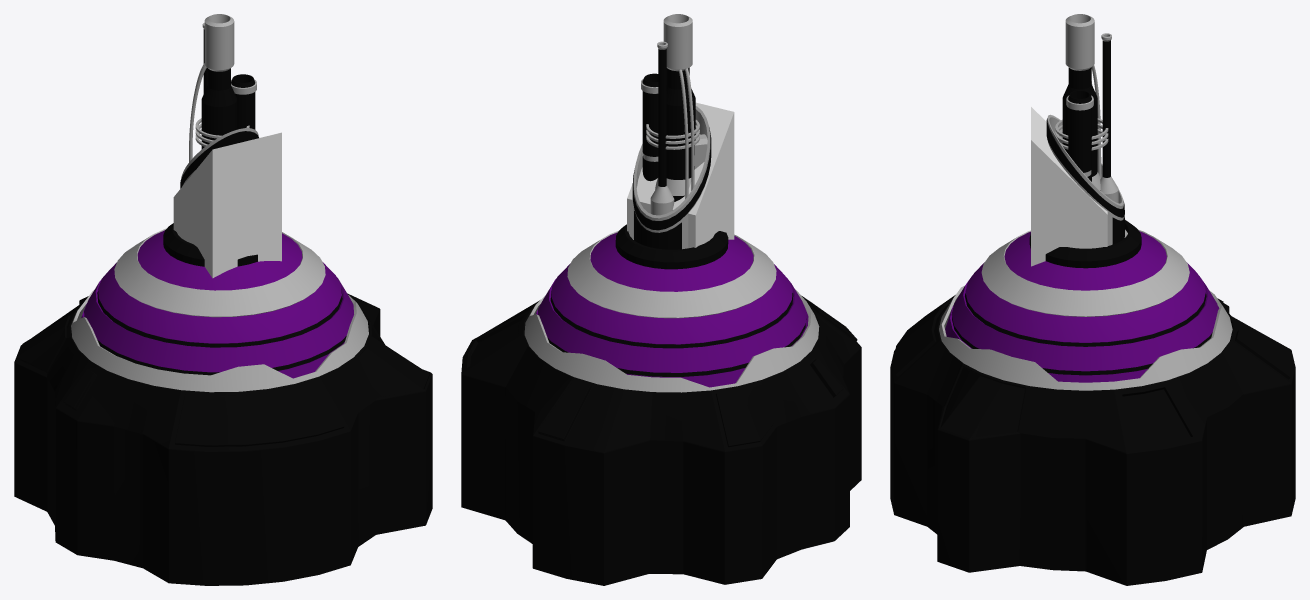
File: Geo Turret.fbx
3 views of the same model, side by side, from view 1: azimuth 30°, elevation 25°; view 2: azimuth 150°, elevation 25°; view 3: azimuth 270°, elevation 25° (orthographic).
Visible parts, largest first — view 1: Circle.001, Sphere, Cutter, Sphere.002, Circle, Sphere.001, Cylinder, Cylinder.002; view 2: Circle.001, Sphere, Sphere.002, Circle, Cutter, Sphere.001, Cylinder.002, Cylinder.001, Cylinder, Circle.002, cable; view 3: Circle.001, Sphere, Sphere.002, Cutter, Circle, Sphere.001, Cylinder.002, Cylinder, Cylinder.001.
Boxes of the visible parts, left/top/right/bottom form: Circle.001: left=14, top=293, right=432, bottom=585; Sphere: left=81, top=223, right=353, bottom=378; Cutter: left=173, top=132, right=281, bottom=278; Sphere.002: left=114, top=228, right=325, bottom=317; Circle: left=71, top=290, right=368, bottom=392; Sphere.001: left=201, top=14, right=237, bottom=149; Cylinder: left=231, top=74, right=256, bottom=129; Cylinder.002: left=180, top=128, right=258, bottom=188; Circle.001: left=461, top=296, right=861, bottom=585; Sphere: left=536, top=224, right=808, bottom=387; Sphere.002: left=567, top=230, right=776, bottom=318; Circle: left=524, top=289, right=819, bottom=392; Cutter: left=627, top=102, right=734, bottom=248; Sphere.001: left=655, top=14, right=695, bottom=201; Cylinder.002: left=632, top=106, right=711, bottom=249; Cylinder.001: left=650, top=41, right=674, bottom=215; Cylinder: left=641, top=73, right=658, bottom=181; Circle.002: left=646, top=120, right=699, bottom=149; cable: left=678, top=69, right=688, bottom=198; Circle.001: left=890, top=295, right=1295, bottom=585; Sphere: left=945, top=220, right=1219, bottom=382; Sphere.002: left=981, top=230, right=1189, bottom=316; Cutter: left=1031, top=107, right=1107, bottom=266; Circle: left=939, top=285, right=1232, bottom=390; Sphere.001: left=1062, top=14, right=1100, bottom=190; Cylinder.002: left=1046, top=114, right=1124, bottom=245; Cylinder: left=1066, top=90, right=1093, bottom=181; Cylinder.001: left=1100, top=33, right=1118, bottom=203.
Size of the model in its own units: 232 by 312 by 239.
